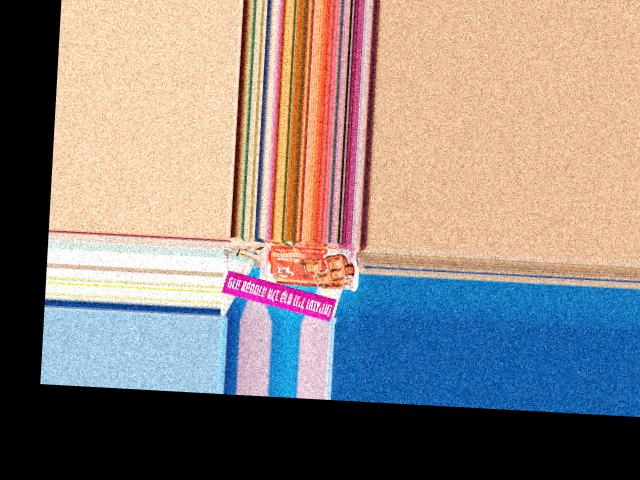chocolate: (256, 242, 362, 293)
